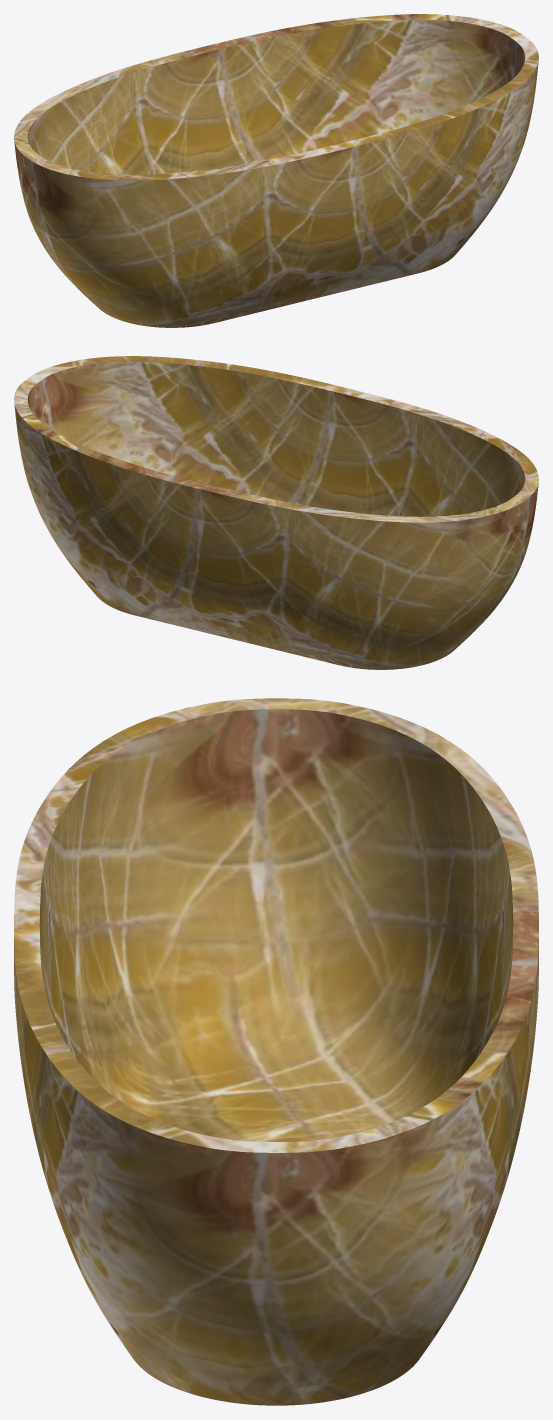
3 views of the same model, one above another, from view 1: azimuth 30°, elevation 25°; view 2: azimuth 150°, elevation 25°; view 3: azimuth 270°, elevation 25° (orthographic). The views are drawn at different scales.
Visible parts, largest first — view 1: vanna-oniks-01; view 2: vanna-oniks-01; view 3: vanna-oniks-01.
Part boxes in pixels (x1,y1,x2,y2): vanna-oniks-01: [14, 14, 538, 327]; vanna-oniks-01: [14, 356, 538, 669]; vanna-oniks-01: [14, 698, 538, 1405].
Bounding box in the file's own units: 1.67 × 0.55 × 0.815.
1 material, 1 textured.
